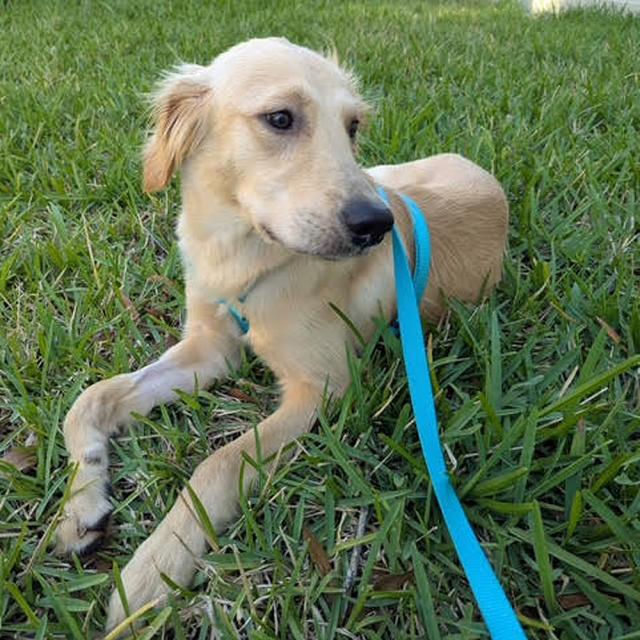golden_retriever_dog: (127, 28, 405, 273)
